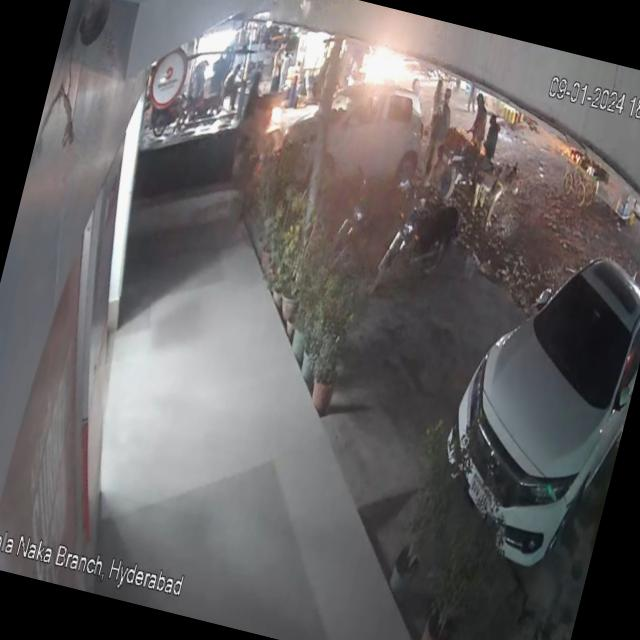Car: (417, 212, 640, 599), (270, 64, 452, 221)
Motorcycle: (370, 174, 472, 318), (327, 170, 408, 285)
